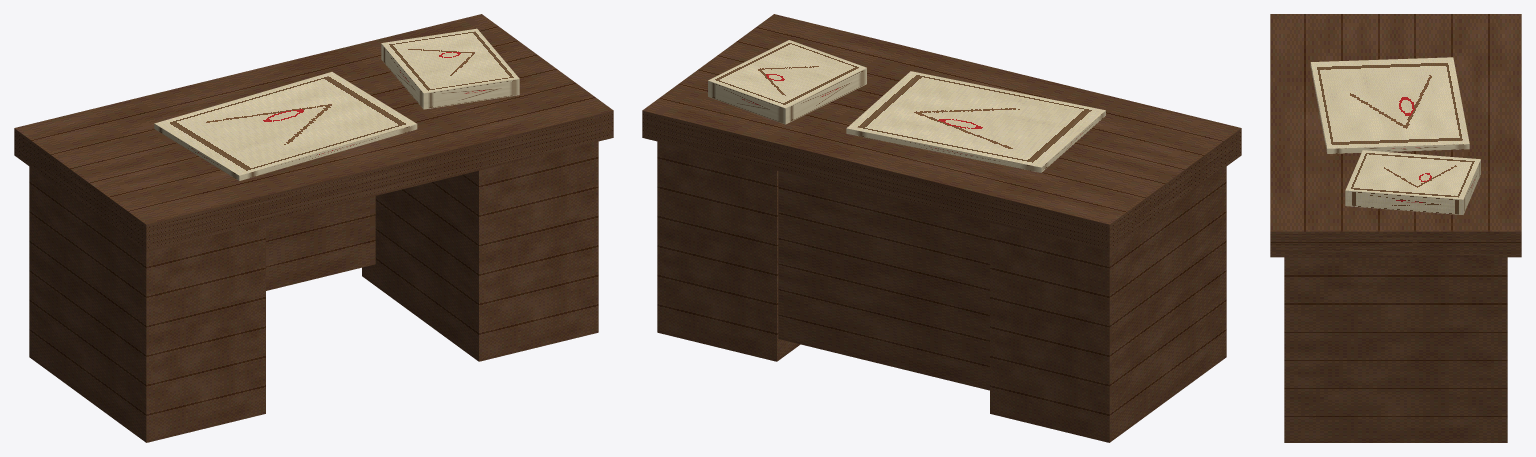
File: escrivaninha_do_capitao.glb
3 renders of one model, left to right at view 1: azimuth 30°, elevation 25°; view 2: azimuth 150°, elevation 25°; view 3: azimuth 270°, elevation 25°, orthographic. The views are drawn at different scales.
Parts seen in each view (by area): view 1: escrivaninha_do_capitao; view 2: escrivaninha_do_capitao; view 3: escrivaninha_do_capitao.
Part boxes in pixels (<box>): escrivaninha_do_capitao: <box>14,14,613,442</box>; escrivaninha_do_capitao: <box>642,14,1241,442</box>; escrivaninha_do_capitao: <box>1270,14,1521,442</box>.
Bounding box in the file's own units: 1.8 × 0.89 × 0.88.
1 material, 1 textured.
